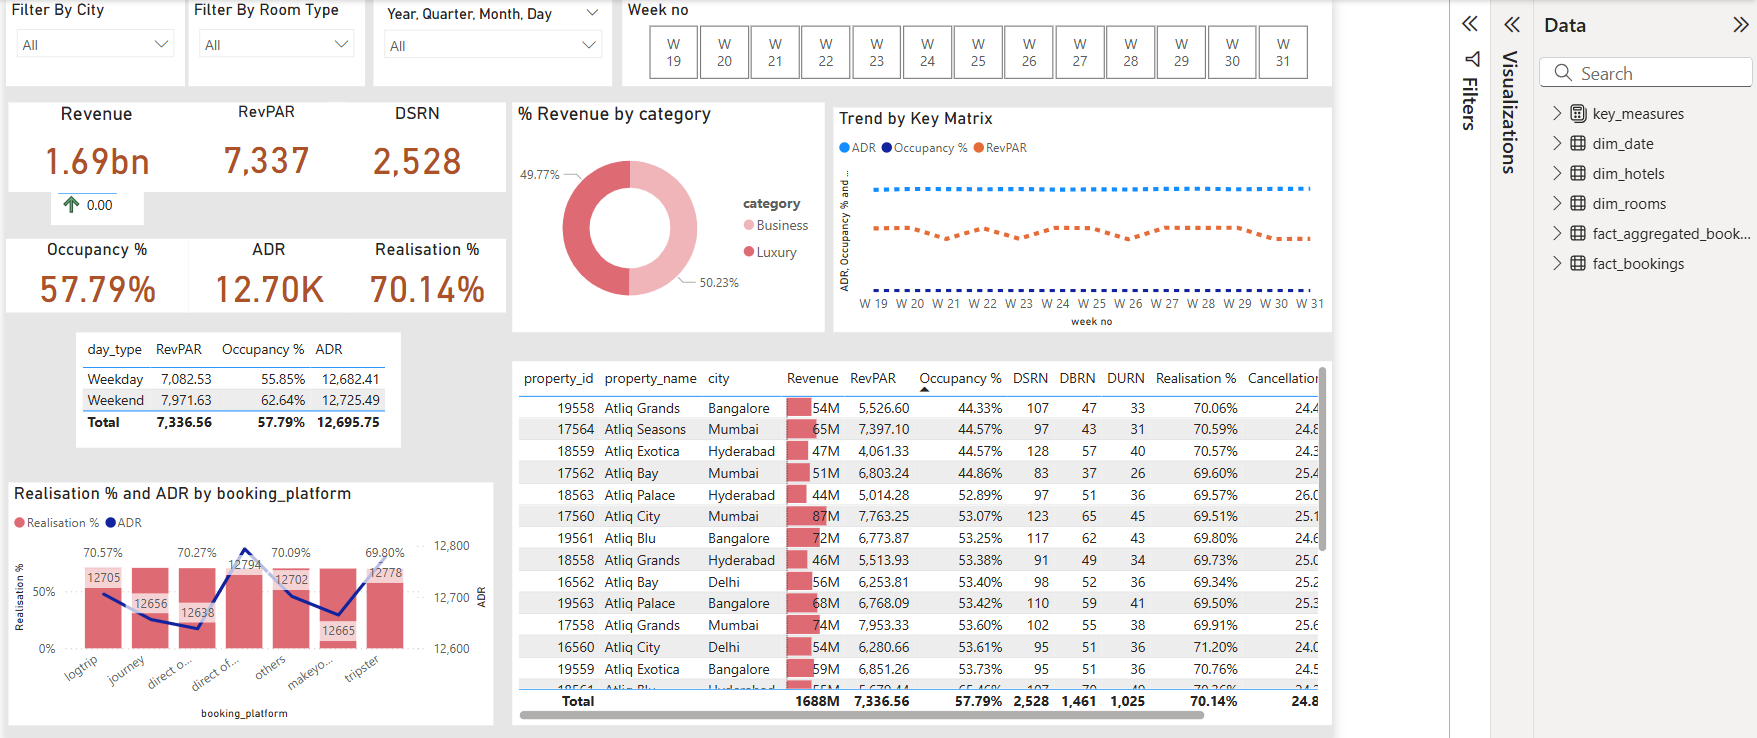

The dashboard page shown, as its layout file describes it:
{"tool":"powerbi","page":{"name":"Page 1","canvas":[1280,720],"ordinal":0},"visuals":[{"type":"tableEx","fields":{"Values":["dim_hotels.property_id","dim_hotels.property_name","dim_hotels.city","key_measures.Revenue","key_measures.RevPAR","key_measures.Occupancy %","key_measures.DSRN","key_measures.DBRN","key_measures.DURN","key_measures.Realisation %","key_measures.Cancellation %","key_measures.Average Rating"]},"box":[488.6,348.7,791.4,351.1],"z":0},{"type":"slicer","title":"Filter By City","fields":{"Values":["dim_hotels.city"]},"box":[0,0,172.5,83.2],"z":1000},{"type":"slicer","title":"Filter By Room Type","fields":{"Values":["dim_rooms.room_class"]},"box":[176.1,0,170.1,83.2],"z":2000},{"type":"slicer","fields":{"Values":["dim_date.mmm yy.Variation.Date Hierarchy.Year","dim_date.mmm yy.Variation.Date Hierarchy.Quarter","dim_date.mmm yy.Variation.Date Hierarchy.Month","dim_date.mmm yy.Variation.Date Hierarchy.Day"]},"box":[354.7,0,230.4,83.2],"z":3000},{"type":"slicer","title":"Week no","fields":{"Values":["dim_date.week no"]},"box":[594.8,0,685.3,83.2],"z":4000},{"type":"donutChart","title":"% Revenue by category","fields":{"Category":["dim_hotels.category"],"Y":["key_measures.Occupancy %"]},"box":[488.6,98.9,301.6,222],"z":5000},{"type":"card","title":"Occupancy %","fields":{"Values":["key_measures.Occupancy %"]},"box":[0,230.4,176.1,71.2],"z":6000},{"type":"card","title":"ADR","fields":{"Values":["key_measures.ADR"]},"box":[175.6,230.5,155.1,71.4],"z":7000},{"type":"card","title":"Realisation %","fields":{"Values":["key_measures.Realisation %"]},"box":[330.7,230.5,152.3,71.4],"z":8000},{"type":"tableEx","fields":{"Values":["key_measures.Revenue WoW change %"]},"box":[43.4,153.2,89.3,63.9],"z":9000},{"type":"card","title":"RevPAR","fields":{"Values":["key_measures.RevPAR"]},"box":[172.9,98.8,157.8,86.4],"z":10000},{"type":"card","title":"DSRN","fields":{"Values":["key_measures.DSRN"]},"box":[311.5,98.8,171.5,86.4],"z":11000},{"type":"lineChart","title":"Trend by Key Matrix","fields":{"Category":["dim_date.mmm yy.Variation.Date Hierarchy.Month","dim_date.week no"],"Y":["key_measures.ADR","key_measures.Occupancy %","key_measures.RevPAR"]},"box":[798.7,103.8,481.4,217.2],"z":12000},{"type":"lineStackedColumnComboChart","fields":{"Category":["fact_bookings.booking_platform"],"Y":["key_measures.Realisation %"],"Y2":["key_measures.ADR"]},"box":[2.4,465.7,468.1,234],"z":13000},{"type":"card","title":"Revenue","fields":{"Values":["key_measures.Revenue"]},"box":[2.7,98.8,170.2,86.4],"z":15000},{"type":"tableEx","fields":{"Values":["dim_date.day_type","key_measures.RevPAR","key_measures.Occupancy %","key_measures.ADR"]},"box":[67.6,320.9,313.7,111],"z":15001}]}

Visuals, with their boxes on the page's 1280x720 design canvas (x1, y1, x2, y2). These are canvas units, not pixel positions in the 1757x738 screenshot, which may show the page scaled, cropped or inside an application window:
tableEx - dim_hotels.property_id x dim_hotels.property_name: (left=489, top=349, right=1280, bottom=700)
"Filter By City" slicer: (left=0, top=0, right=172, bottom=83)
"Filter By Room Type" slicer: (left=176, top=0, right=346, bottom=83)
slicer - dim_date.mmm yy.Variation.Date Hierarchy.Year x dim_date.mmm yy.Variation.Date Hierarchy.Quarter: (left=355, top=0, right=585, bottom=83)
"Week no" slicer: (left=595, top=0, right=1280, bottom=83)
"% Revenue by category" donutChart: (left=489, top=99, right=790, bottom=321)
"Occupancy %" card: (left=0, top=230, right=176, bottom=302)
"ADR" card: (left=176, top=230, right=331, bottom=302)
"Realisation %" card: (left=331, top=230, right=483, bottom=302)
tableEx - key_measures.Revenue WoW change %: (left=43, top=153, right=133, bottom=217)
"RevPAR" card: (left=173, top=99, right=331, bottom=185)
"DSRN" card: (left=312, top=99, right=483, bottom=185)
"Trend by Key Matrix" lineChart: (left=799, top=104, right=1280, bottom=321)
lineStackedColumnComboChart - fact_bookings.booking_platform x key_measures.Realisation %: (left=2, top=466, right=470, bottom=700)
"Revenue" card: (left=3, top=99, right=173, bottom=185)
tableEx - dim_date.day_type x key_measures.RevPAR: (left=68, top=321, right=381, bottom=432)
